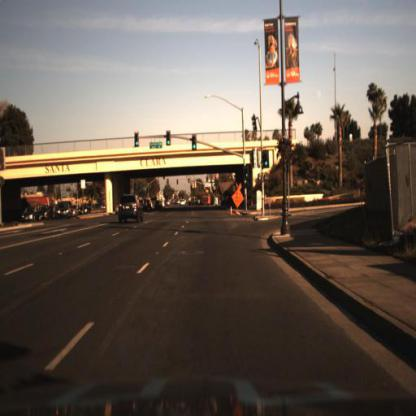car: (115, 193, 143, 229), (52, 196, 75, 221), (185, 192, 213, 209), (77, 196, 96, 219), (20, 203, 38, 224), (58, 198, 70, 221), (78, 200, 88, 216)
trafficLight: (260, 143, 271, 176)
trafficLight-Green: (132, 126, 140, 149), (244, 160, 252, 183), (132, 129, 140, 150), (190, 134, 198, 154), (191, 130, 197, 156), (262, 150, 270, 169), (242, 164, 250, 182), (164, 130, 172, 147), (165, 129, 172, 147)
